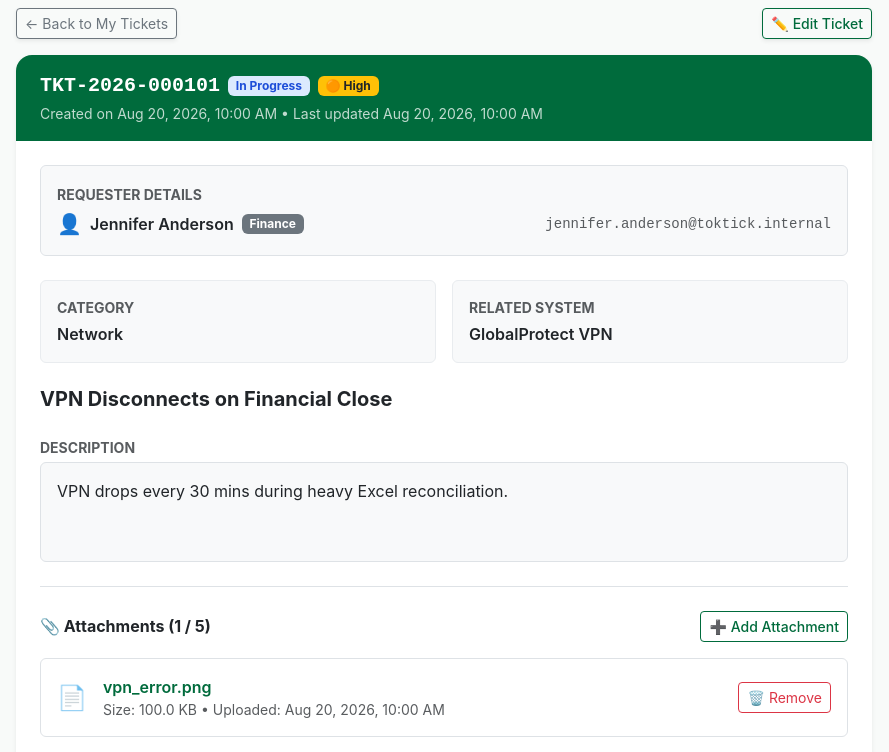
Ticket Detail Screen, Attachment Lifecycle, and In-Place Edit (UI-06..08) › UI-07: enters in-place edit mode, saves changes, and renders updated summary
Enter edit mode
Click the button "✏️ Edit Ticket" at (817, 24), box [762,8,872,39]
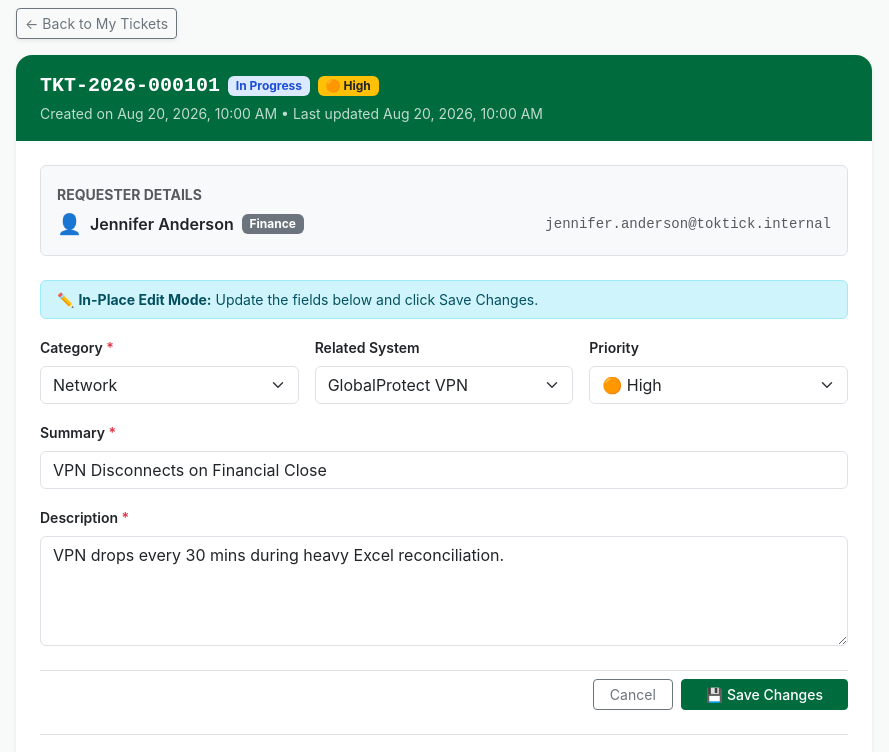
Result: the text "In-Place Edit Mode:" is shown at [78,291,212,308]
Edit summary
Replace the text in the field showing "VPN Disconnects on Financial Close" with "Updated VPN Summary After Edit" at (444, 470), box [40,451,848,489]
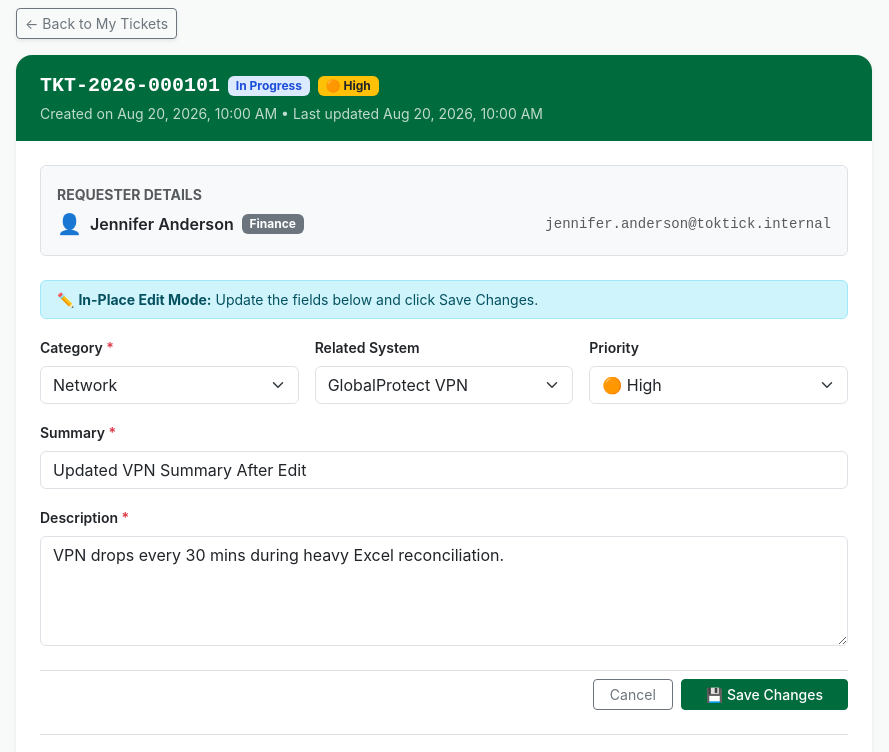
Save changes
Click the button "💾 Save Changes" at (764, 694), box [681,679,848,710]
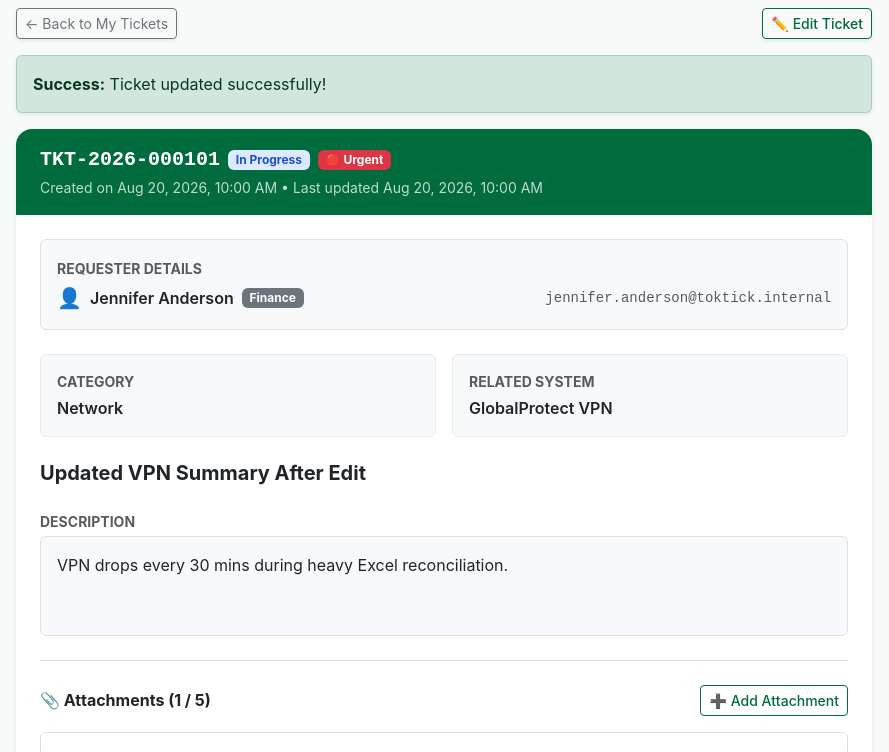
Result: the heading "Updated VPN Summary After Edit" is shown at [40,461,366,485]
